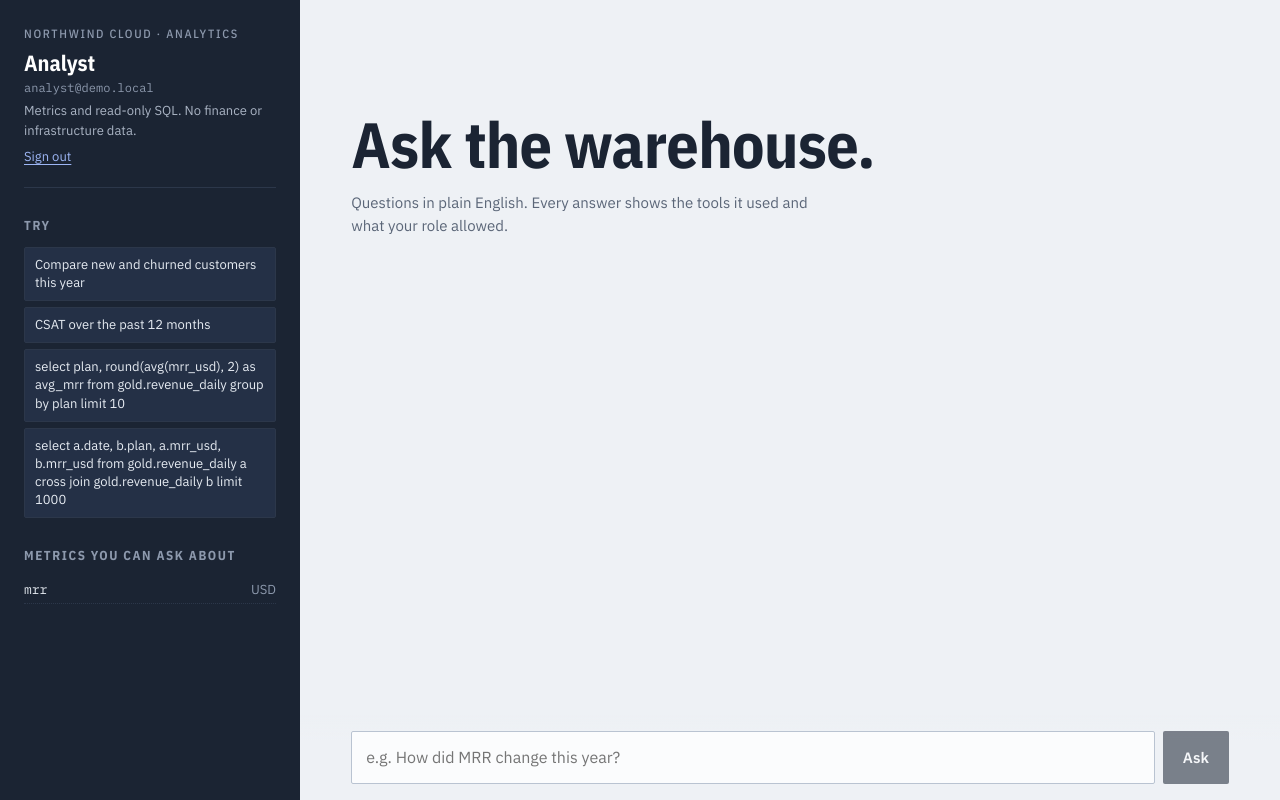
it: a failed request is shown as an error on that question
The width and height of the screenshot is (1280, 800).
Type "x" into the field named "Your question". click: (753,758)
box: [351,731,1155,784]
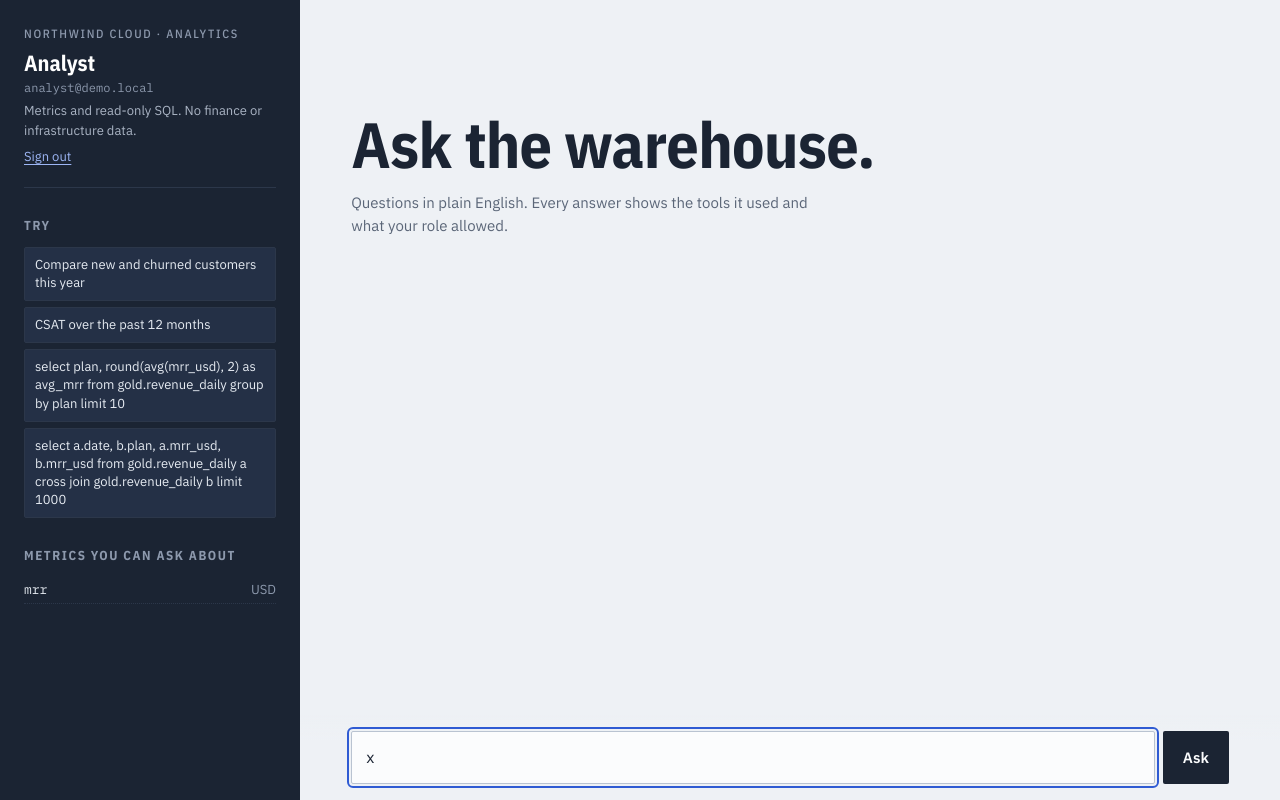
Click the button "Ask". click: (1196,758)
box: [1163,731,1229,784]
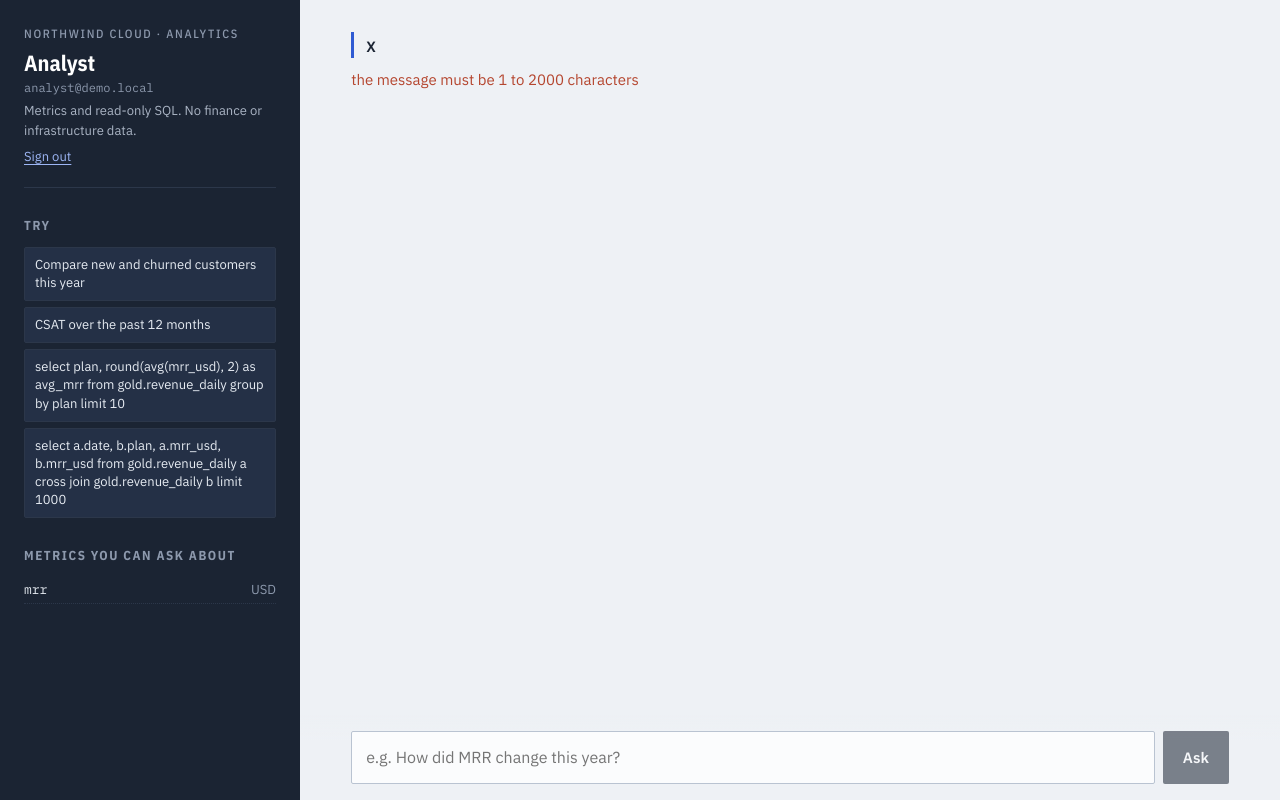
Expected: the message reads "the message must be 1 to 2000 characters", [351,70,639,89]
